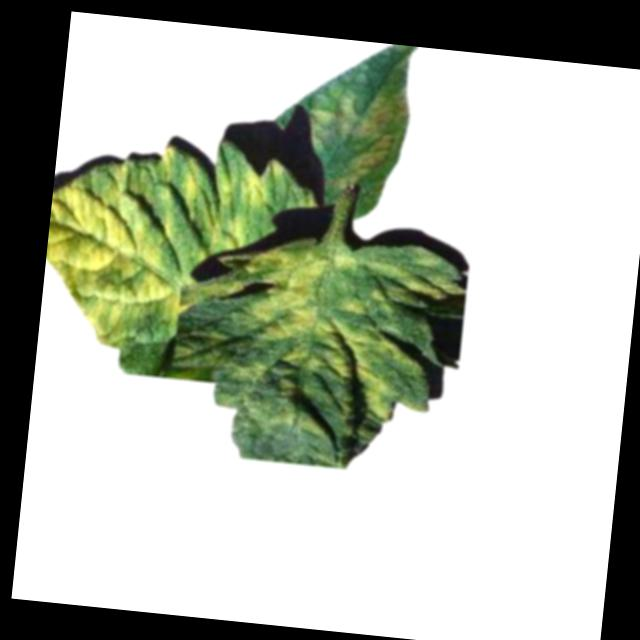Leaf_Mold: (38, 136, 273, 362), (231, 237, 466, 450), (303, 80, 411, 195)
